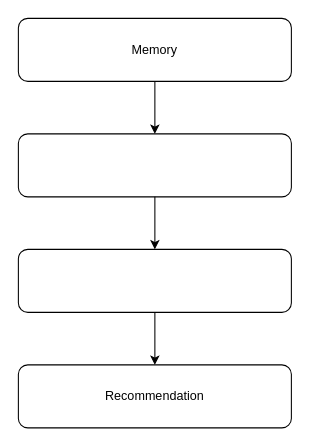
This 310x446 diagram has some shape labels left out. The shapes that lost their labels are listed below. From the top down, each one's centre as x and y in pixels, then its label:
[154,165]: Knowledge
[154,280]: Rules
